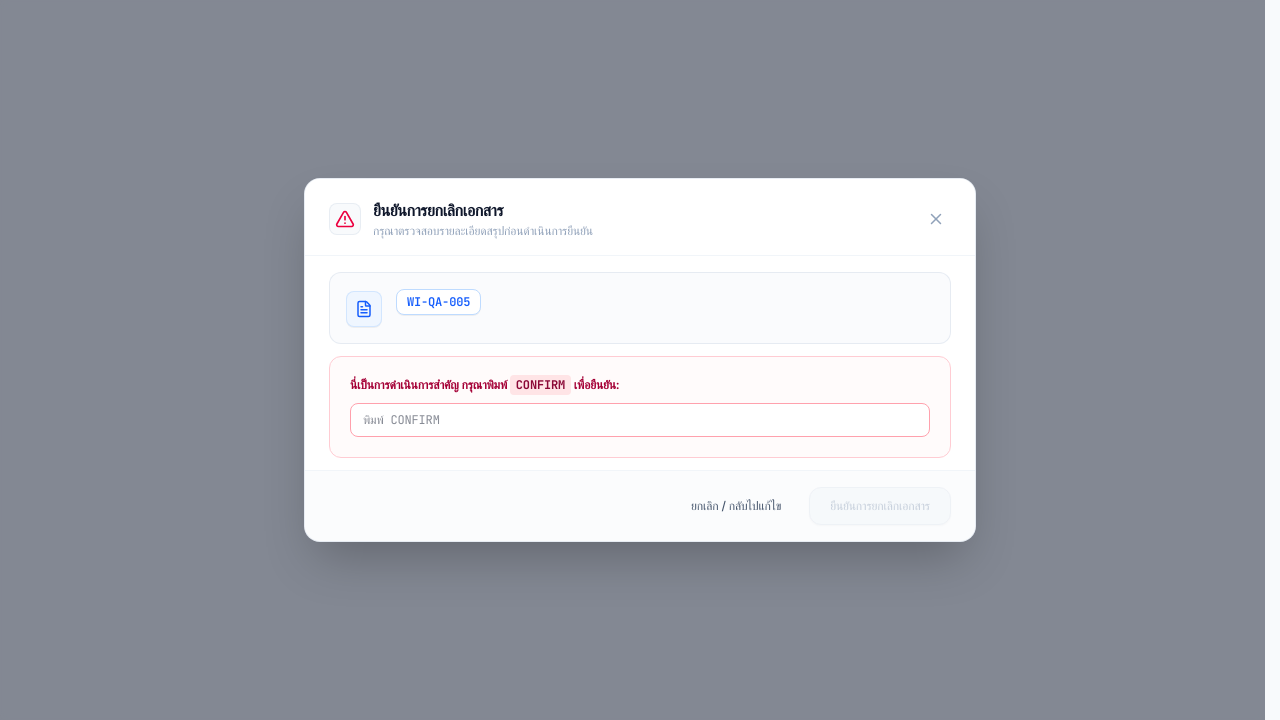
Test: Modal Summary, Typography Scale-Up & Thai Localization Tests › enforces typed confirmation in Thai for critical obsolete actions
Expected: the text "นี่เป็นการดำเนินการสำคัญ กรุณาพิมพ์ CONFIRM เพื่อยืนยัน:" is shown, x1=350 y1=375 x2=620 y2=395
Expected: the button "ยืนยันการยกเลิกเอกสาร" is disabled, x1=809 y1=487 x2=951 y2=525
Type CONFIRM
Type "CONFIRM" into the field with placeholder "พิมพ์ CONFIRM" at (640, 420), box x1=350 y1=403 x2=930 y2=437
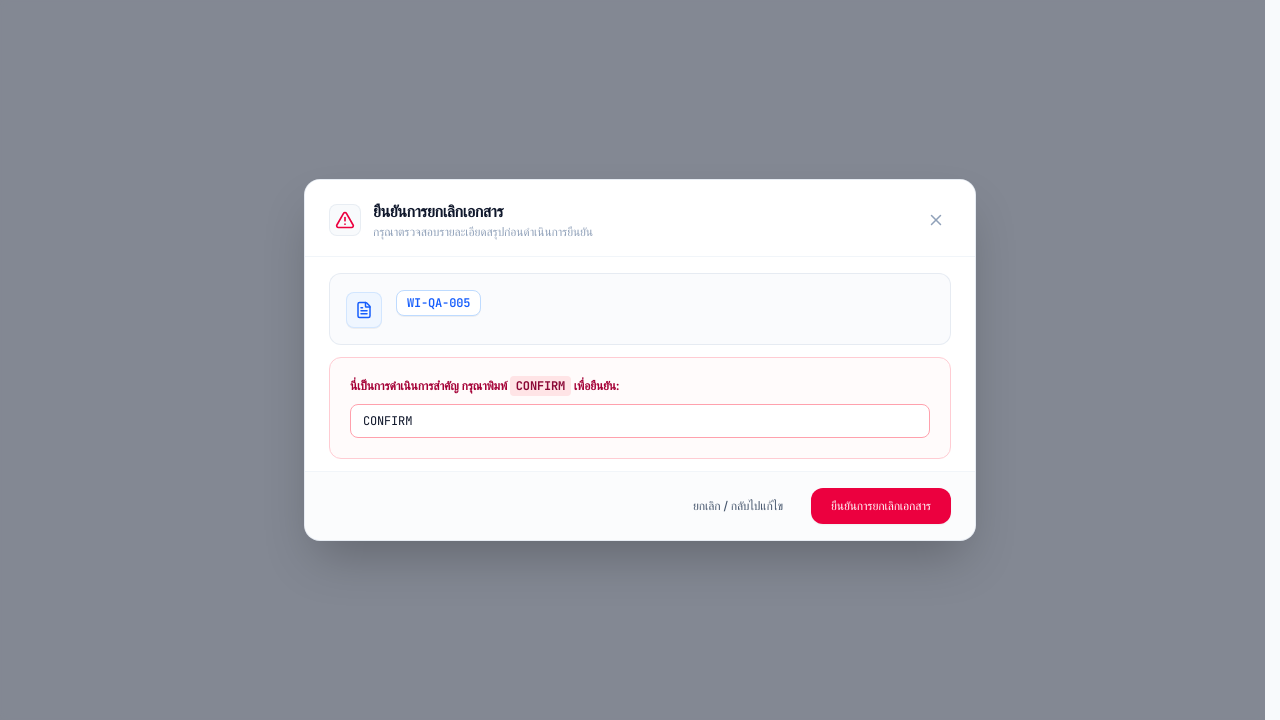
Now the button "ยืนยันการยกเลิกเอกสาร" is enabled, box x1=811 y1=488 x2=951 y2=524
